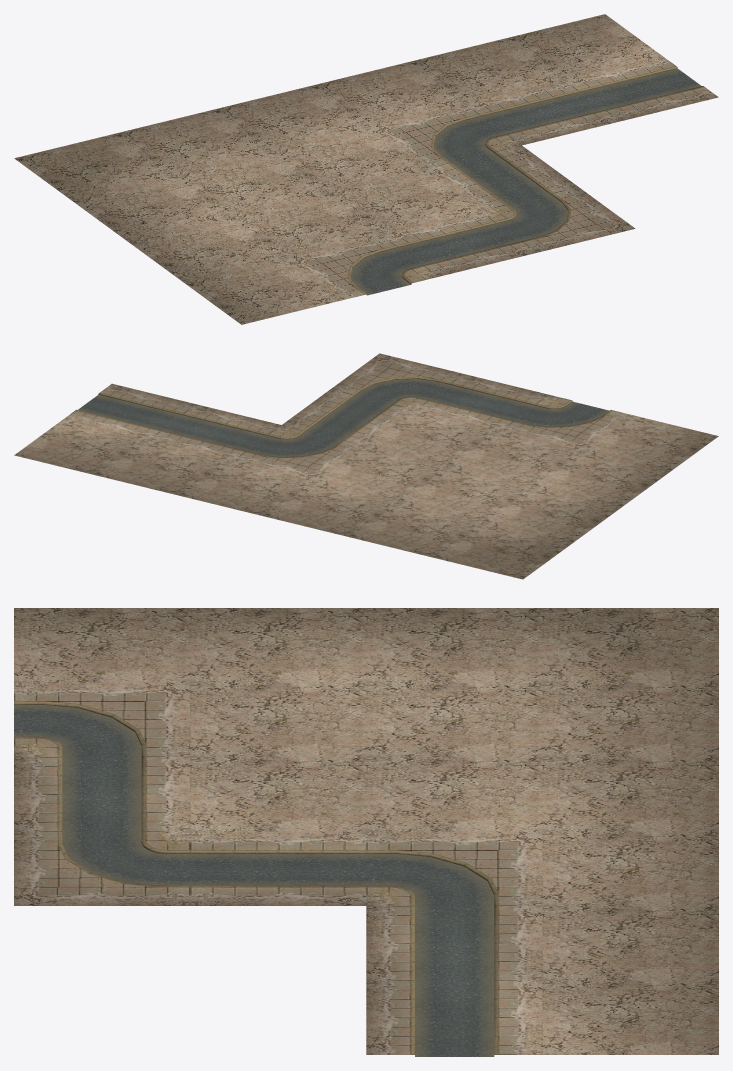
File: M11Z2_Floor3.glb
3 views of the same model, one above another, from view 1: azimuth 30°, elevation 25°; view 2: azimuth 150°, elevation 25°; view 3: azimuth 270°, elevation 25° (orthographic). The views are drawn at different scales.
Visible parts, largest first — view 1: M11Z2_FLOOR3001, M11Z2_FLOOR3011, M11Z2_FLOOR3002, M11Z2_FLOOR3005, M11Z2_FLOOR3007, M11Z2_FLOOR3014, M11Z2_FLOOR3017, M11Z2_FLOOR3008, M11Z2_FLOOR3009, M11Z2_FLOOR3013, M11Z2_FLOOR3016, M11Z2_FLOOR3018 (+8 smaller); view 2: M11Z2_FLOOR3003, M11Z2_FLOOR3007, M11Z2_FLOOR3012, M11Z2_FLOOR3013, M11Z2_FLOOR3, M11Z2_FLOOR3008, M11Z2_FLOOR3014, M11Z2_FLOOR3015, M11Z2_FLOOR3018, M11Z2_FLOOR3002, M11Z2_FLOOR3004, M11Z2_FLOOR3006 (+8 smaller); view 3: M11Z2_FLOOR3001, M11Z2_FLOOR3011, M11Z2_FLOOR3002, M11Z2_FLOOR3013, M11Z2_FLOOR3012, M11Z2_FLOOR3, M11Z2_FLOOR3004, M11Z2_FLOOR3005, M11Z2_FLOOR3006, M11Z2_FLOOR3007, M11Z2_FLOOR3008, M11Z2_FLOOR3010 (+8 smaller).
Part boxes in pixels (x1,y1,x2,y2): M11Z2_FLOOR3001: [283, 235, 438, 300]; M11Z2_FLOOR3011: [367, 104, 521, 169]; M11Z2_FLOOR3002: [382, 211, 536, 276]; M11Z2_FLOOR3005: [226, 193, 381, 258]; M11Z2_FLOOR3007: [423, 145, 578, 210]; M11Z2_FLOOR3014: [14, 134, 168, 199]; M11Z2_FLOOR3017: [310, 62, 464, 127]; M11Z2_FLOOR3008: [71, 176, 225, 241]; M11Z2_FLOOR3009: [170, 152, 324, 217]; M11Z2_FLOOR3013: [564, 56, 718, 121]; M11Z2_FLOOR3016: [211, 86, 365, 151]; M11Z2_FLOOR3018: [408, 38, 563, 103]; M11Z2_FLOOR3003: [331, 353, 463, 409]; M11Z2_FLOOR3007: [282, 389, 414, 445]; M11Z2_FLOOR3012: [148, 404, 281, 460]; M11Z2_FLOOR3013: [63, 383, 196, 440]; M11Z2_FLOOR3: [585, 415, 718, 471]; M11Z2_FLOOR3008: [488, 487, 620, 543]; M11Z2_FLOOR3014: [438, 523, 571, 579]; M11Z2_FLOOR3015: [353, 502, 486, 558]; M11Z2_FLOOR3018: [99, 440, 231, 496]; M11Z2_FLOOR3002: [416, 374, 548, 430]; M11Z2_FLOOR3004: [536, 451, 669, 507]; M11Z2_FLOOR3006: [367, 410, 499, 466]; M11Z2_FLOOR3001: [14, 682, 190, 758]; M11Z2_FLOOR3011: [366, 831, 542, 907]; M11Z2_FLOOR3002: [14, 757, 190, 833]; M11Z2_FLOOR3013: [366, 980, 542, 1056]; M11Z2_FLOOR3012: [366, 906, 542, 982]; M11Z2_FLOOR3: [14, 608, 190, 682]; M11Z2_FLOOR3004: [190, 608, 366, 682]; M11Z2_FLOOR3005: [190, 682, 366, 756]; M11Z2_FLOOR3006: [190, 757, 366, 831]; M11Z2_FLOOR3007: [190, 831, 366, 905]; M11Z2_FLOOR3008: [366, 608, 542, 682]; M11Z2_FLOOR3010: [366, 757, 542, 831].
Size of the model in its own units: 48 by 0.1 by 32.
Materials: 5 (5 with a texture image).
